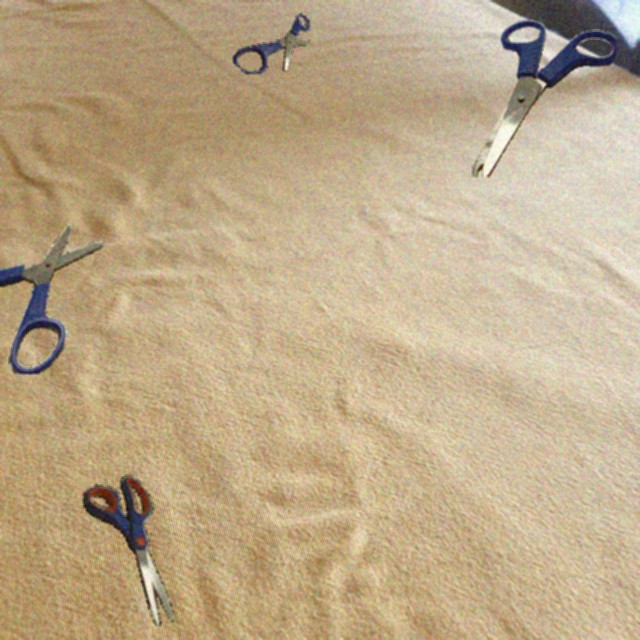scissors: (471, 20, 617, 177), (0, 224, 103, 374), (83, 475, 174, 626), (233, 13, 310, 74)
